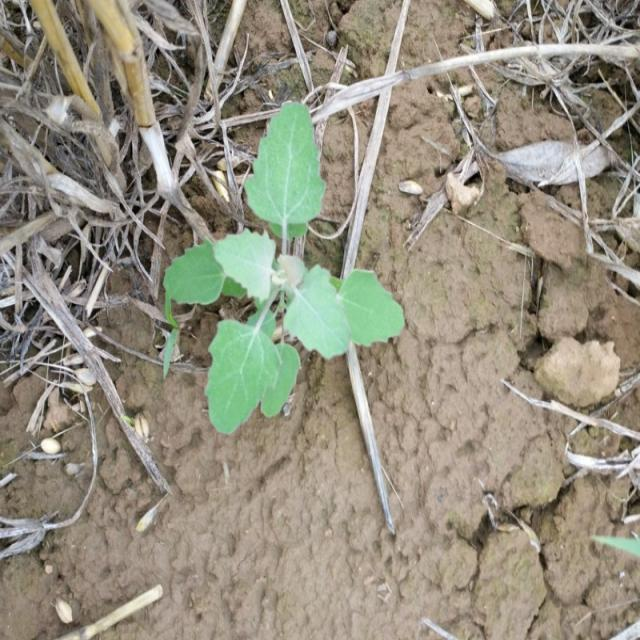goosefoots: (155, 91, 395, 405)
